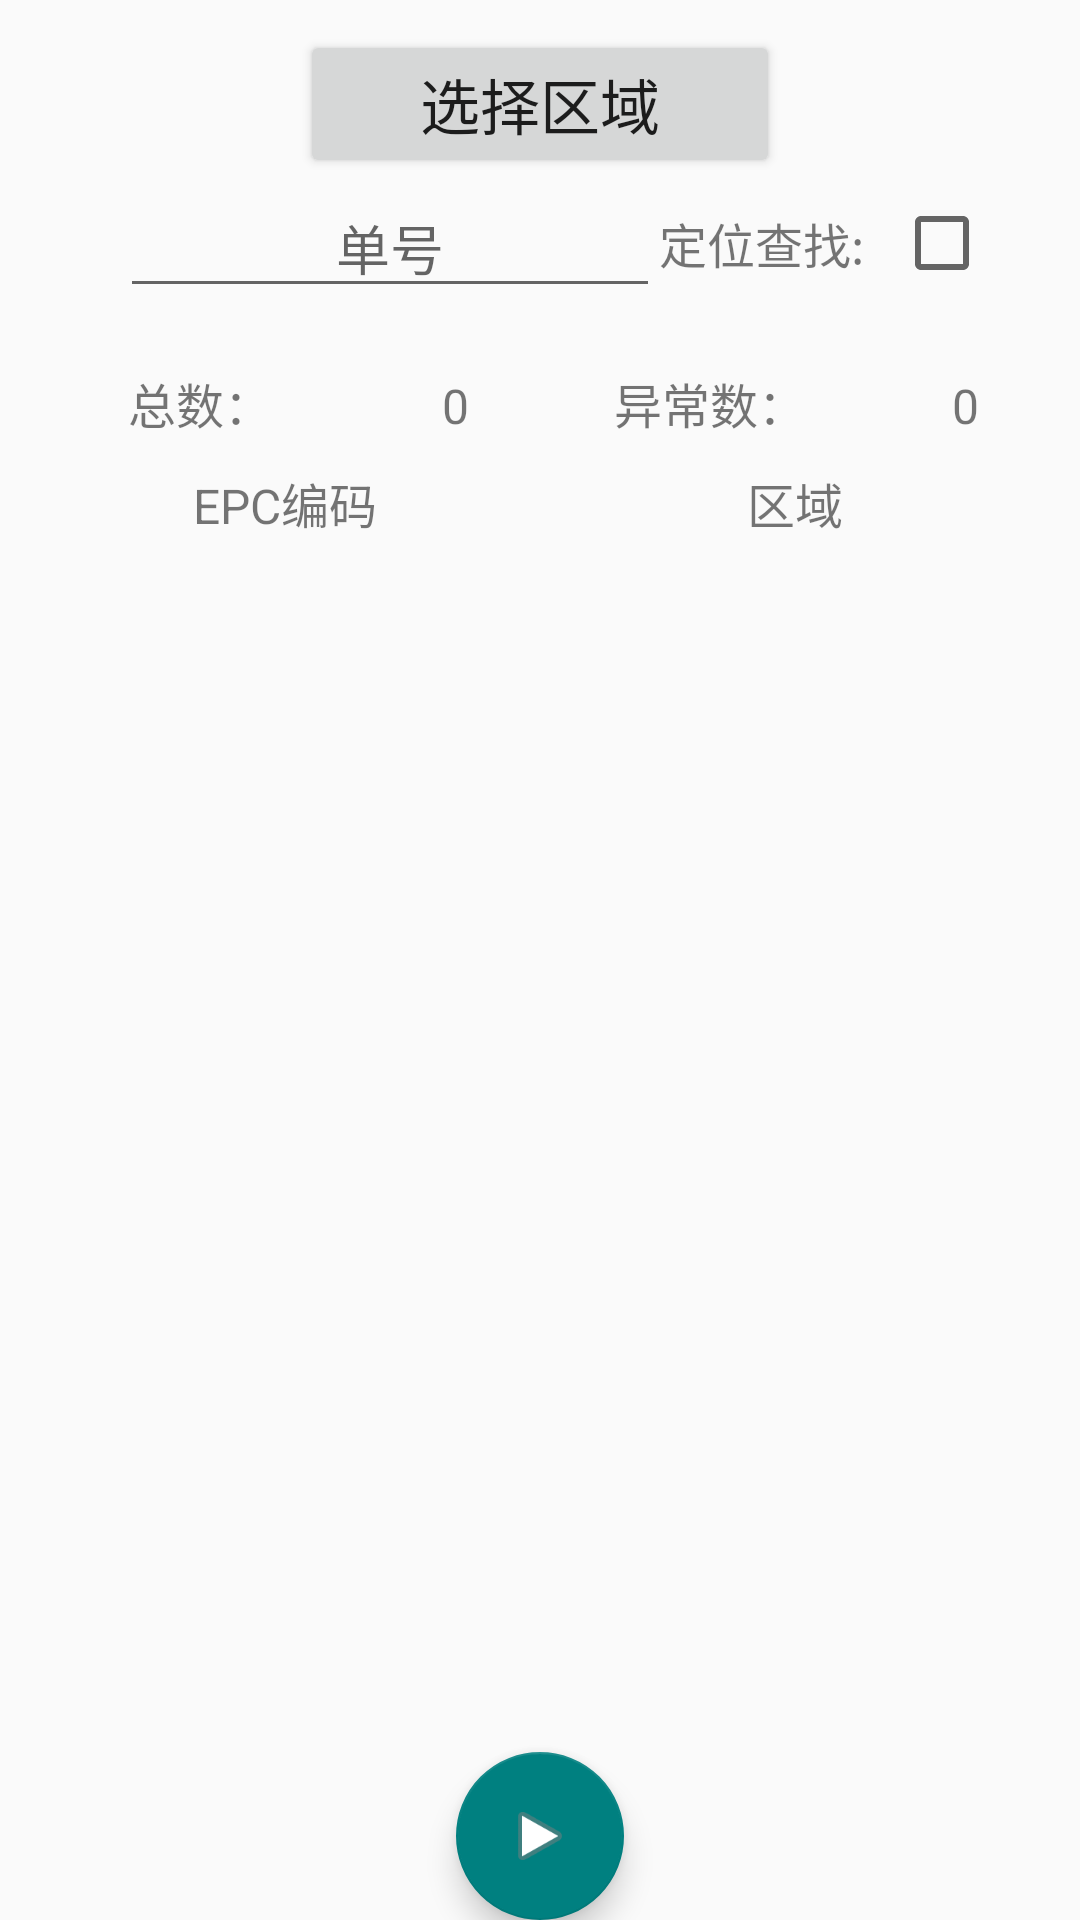

Where to tap for icons on this 1080*1920 app screen, as (x=x, y=y):
play: (x=540, y=1836)
